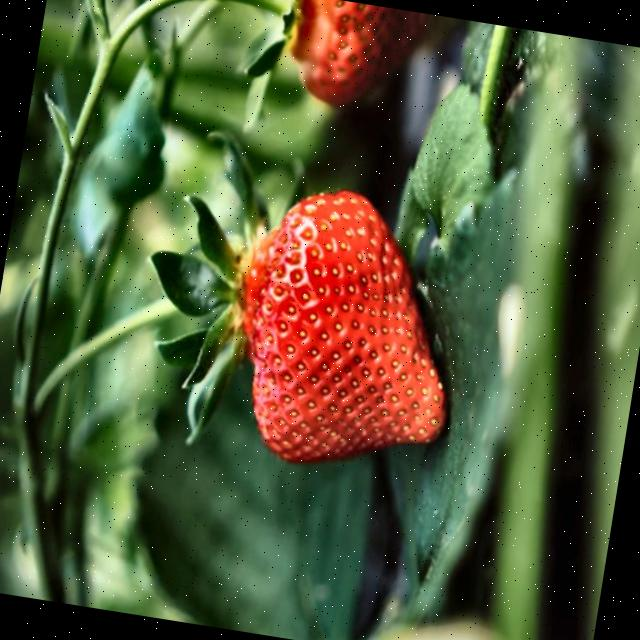strawberry: (243, 189, 447, 461), (290, 0, 429, 104)
